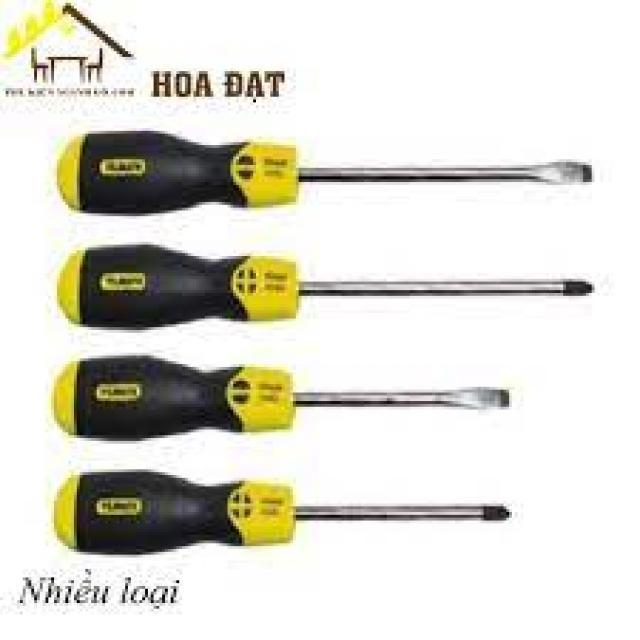screwdriver: (52, 125, 598, 228), (52, 239, 598, 333), (47, 350, 536, 444), (47, 466, 525, 554)
